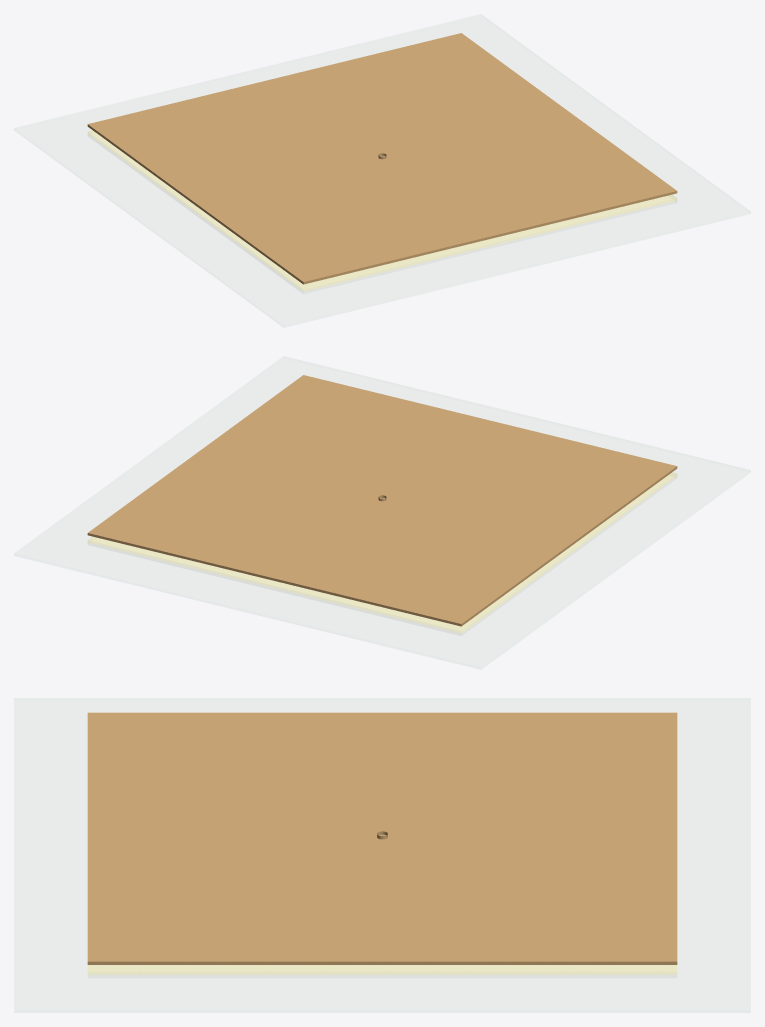
Rendered from board.glb.
3 views of the same model, one above another, from view 1: azimuth 30°, elevation 25°; view 2: azimuth 150°, elevation 25°; view 3: azimuth 270°, elevation 25° (orthographic). The views are drawn at different scales.
Visible parts, largest first — view 1: Substrate_Layer_1_Z0, Substrate_Layer_3_Z0, Substrate_Layer_2_Z0; view 2: Substrate_Layer_1_Z0, Substrate_Layer_3_Z0, Substrate_Layer_2_Z0; view 3: Substrate_Layer_1_Z0, Substrate_Layer_3_Z0, Substrate_Layer_2_Z0.
Part boxes in pixels (x1,y1,x2,y2): Substrate_Layer_1_Z0: (87,33,677,284); Substrate_Layer_3_Z0: (88,131,676,291); Substrate_Layer_2_Z0: (88,133,676,293); Substrate_Layer_1_Z0: (87,375,677,626); Substrate_Layer_3_Z0: (88,473,676,633); Substrate_Layer_2_Z0: (88,475,676,635); Substrate_Layer_1_Z0: (87,712,677,964); Substrate_Layer_3_Z0: (88,965,676,974); Substrate_Layer_2_Z0: (88,965,676,977).
Size of the model in its own units: 0.02 by 0.0007 by 0.02.
